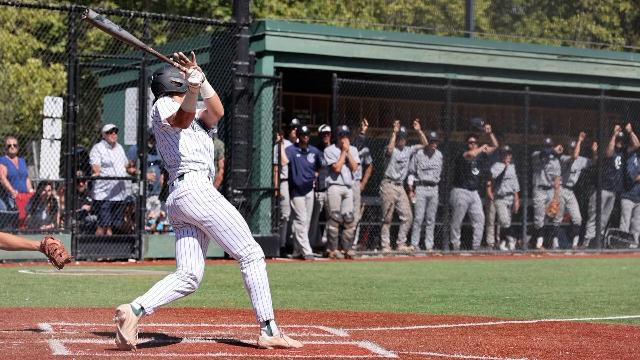bat: (78, 8, 188, 72)
